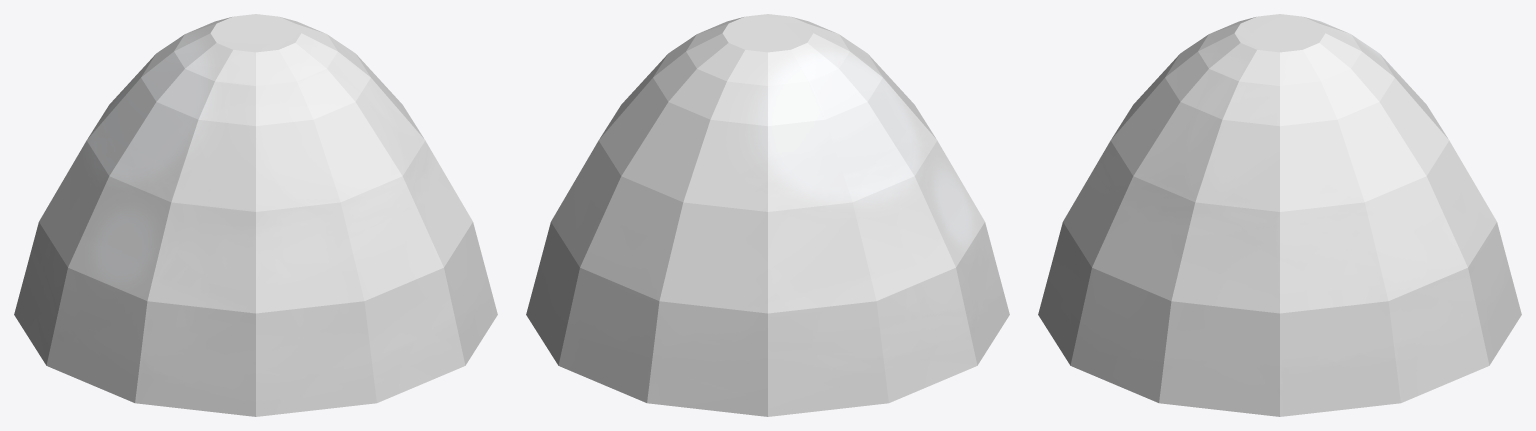
File: Egg.001Shell2.fbx
3 renders of one model, left to right at view 1: azimuth 30°, elevation 25°; view 2: azimuth 150°, elevation 25°; view 3: azimuth 270°, elevation 25°, orthographic.
Parts seen in each view (by area): view 1: Egg.001Shell2; view 2: Egg.001Shell2; view 3: Egg.001Shell2.
Part boxes in pixels (bbox=[...]): Egg.001Shell2: bbox=[14, 14, 497, 416]; Egg.001Shell2: bbox=[526, 14, 1009, 416]; Egg.001Shell2: bbox=[1038, 14, 1521, 416].
Bounding box in the file's own units: 35.19 × 22.59 × 35.19.
